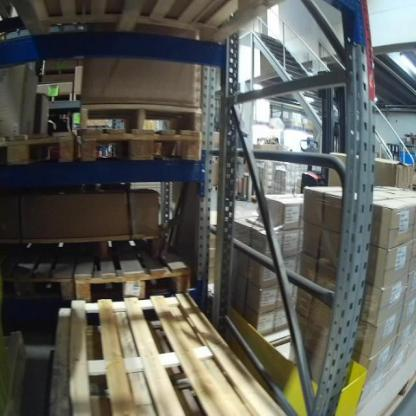pallet: (52, 289, 291, 416), (3, 0, 284, 46), (73, 240, 193, 303), (78, 126, 205, 165), (78, 102, 204, 137), (0, 245, 73, 303), (0, 130, 78, 166)
pallet_truck: (297, 67, 360, 193)
